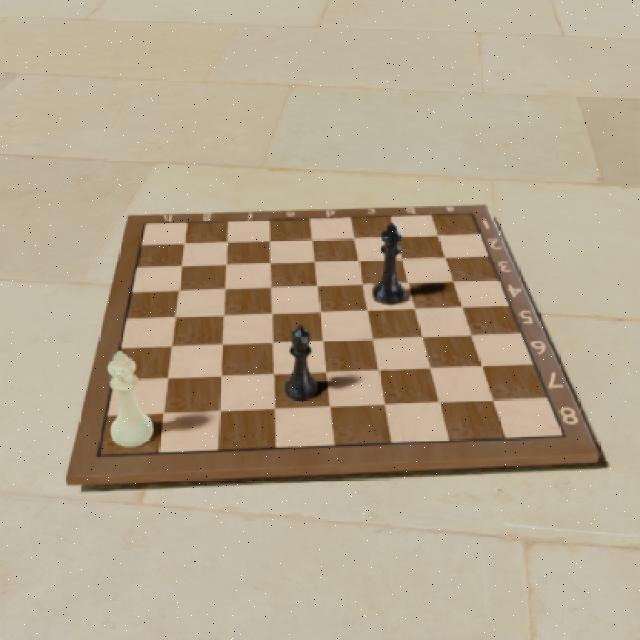black-bishop: (286, 319, 318, 402)
black-king: (374, 220, 406, 308)
white-king: (109, 344, 151, 451)
